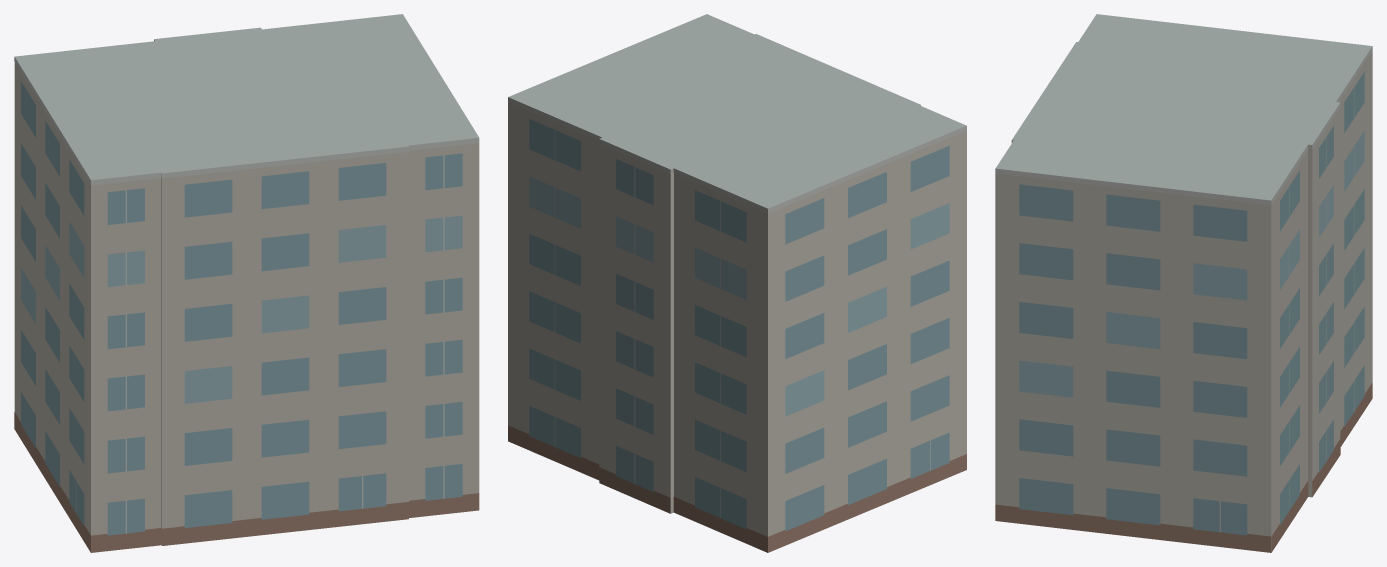
The model's file is survey-upis-32994109.glb.
The picture shows the model from 3 angles, left to right: view 1: azimuth 30°, elevation 25°; view 2: azimuth 150°, elevation 25°; view 3: azimuth 270°, elevation 25°; orthographic projection. The views are drawn at different scales.
Visible parts, largest first — view 1: survey-upis-32994109.tmp; view 2: survey-upis-32994109.tmp; view 3: survey-upis-32994109.tmp.
Boxes of the visible parts, left/top/right/bottom form: survey-upis-32994109.tmp: left=14, top=14, right=479, bottom=552; survey-upis-32994109.tmp: left=508, top=14, right=966, bottom=552; survey-upis-32994109.tmp: left=995, top=14, right=1372, bottom=552.
Bounding box in the file's own units: 19.76 × 17.4 × 16.89.
